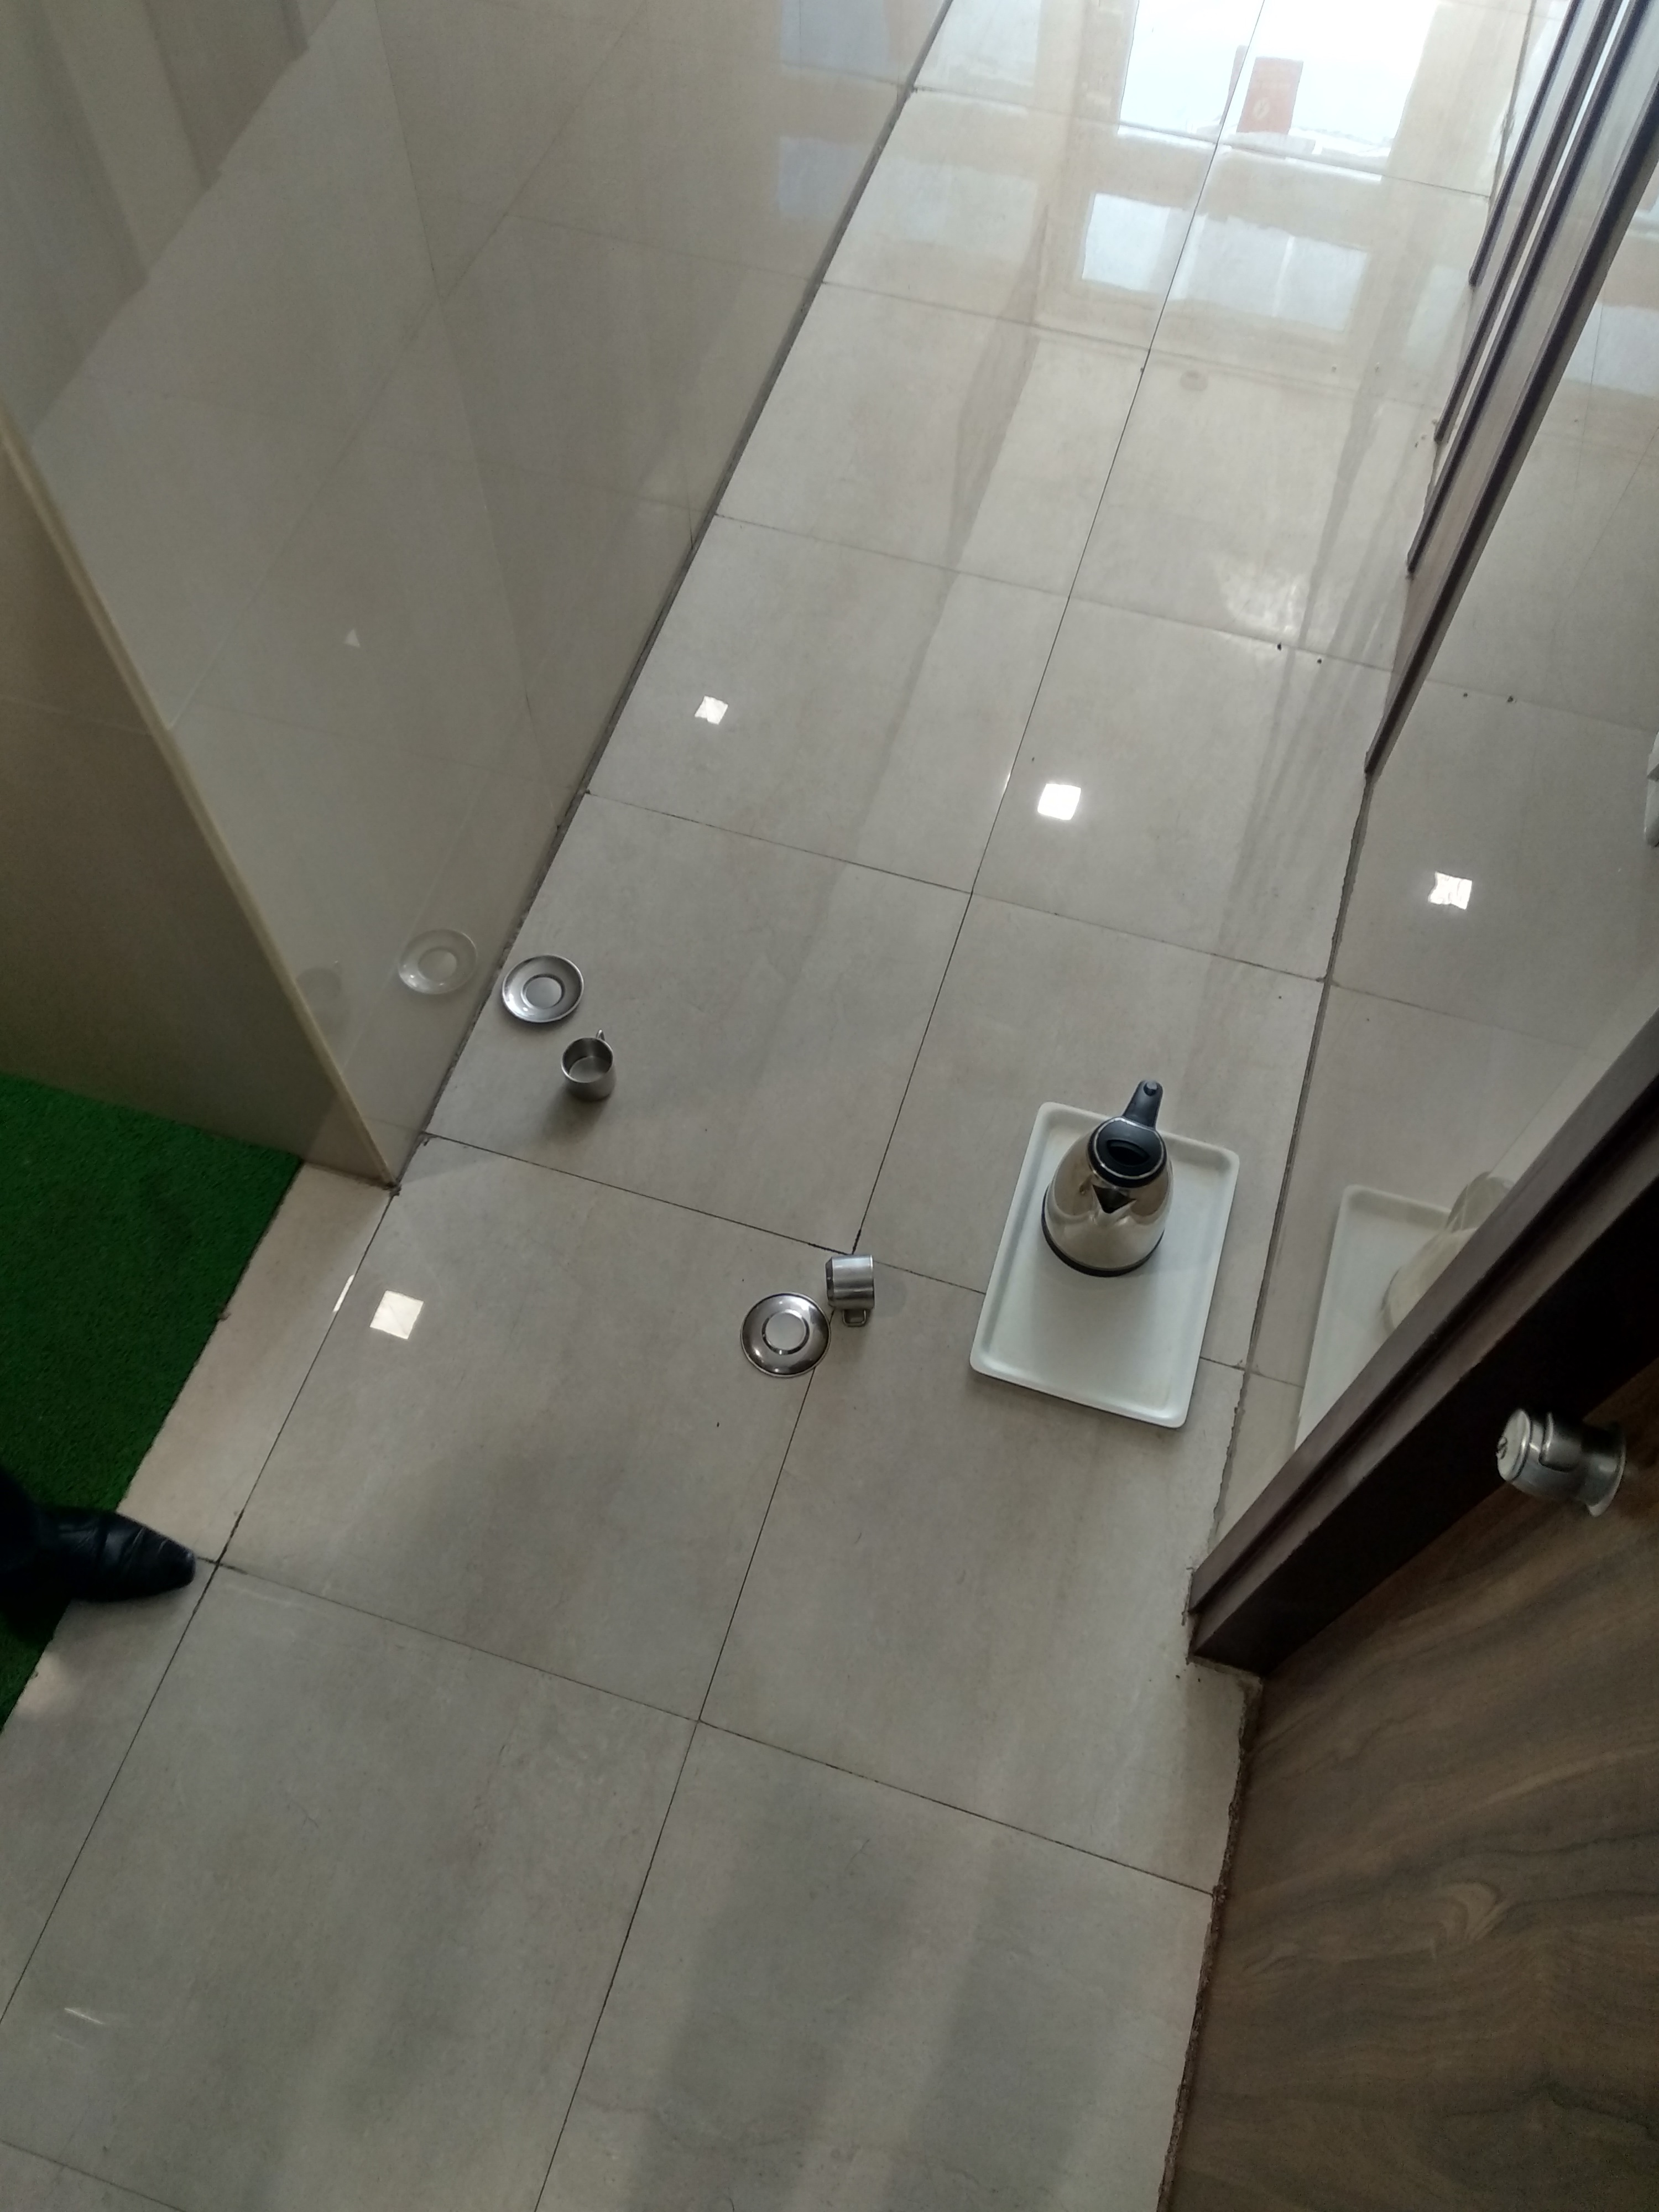CUP: (828, 1254, 890, 1336), (558, 1042, 620, 1101)
FLASK: (1046, 1097, 1183, 1284)
